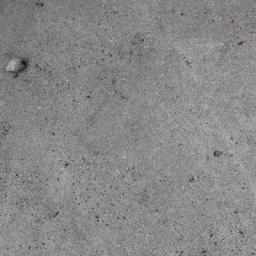FOD: (6, 56, 30, 79)
